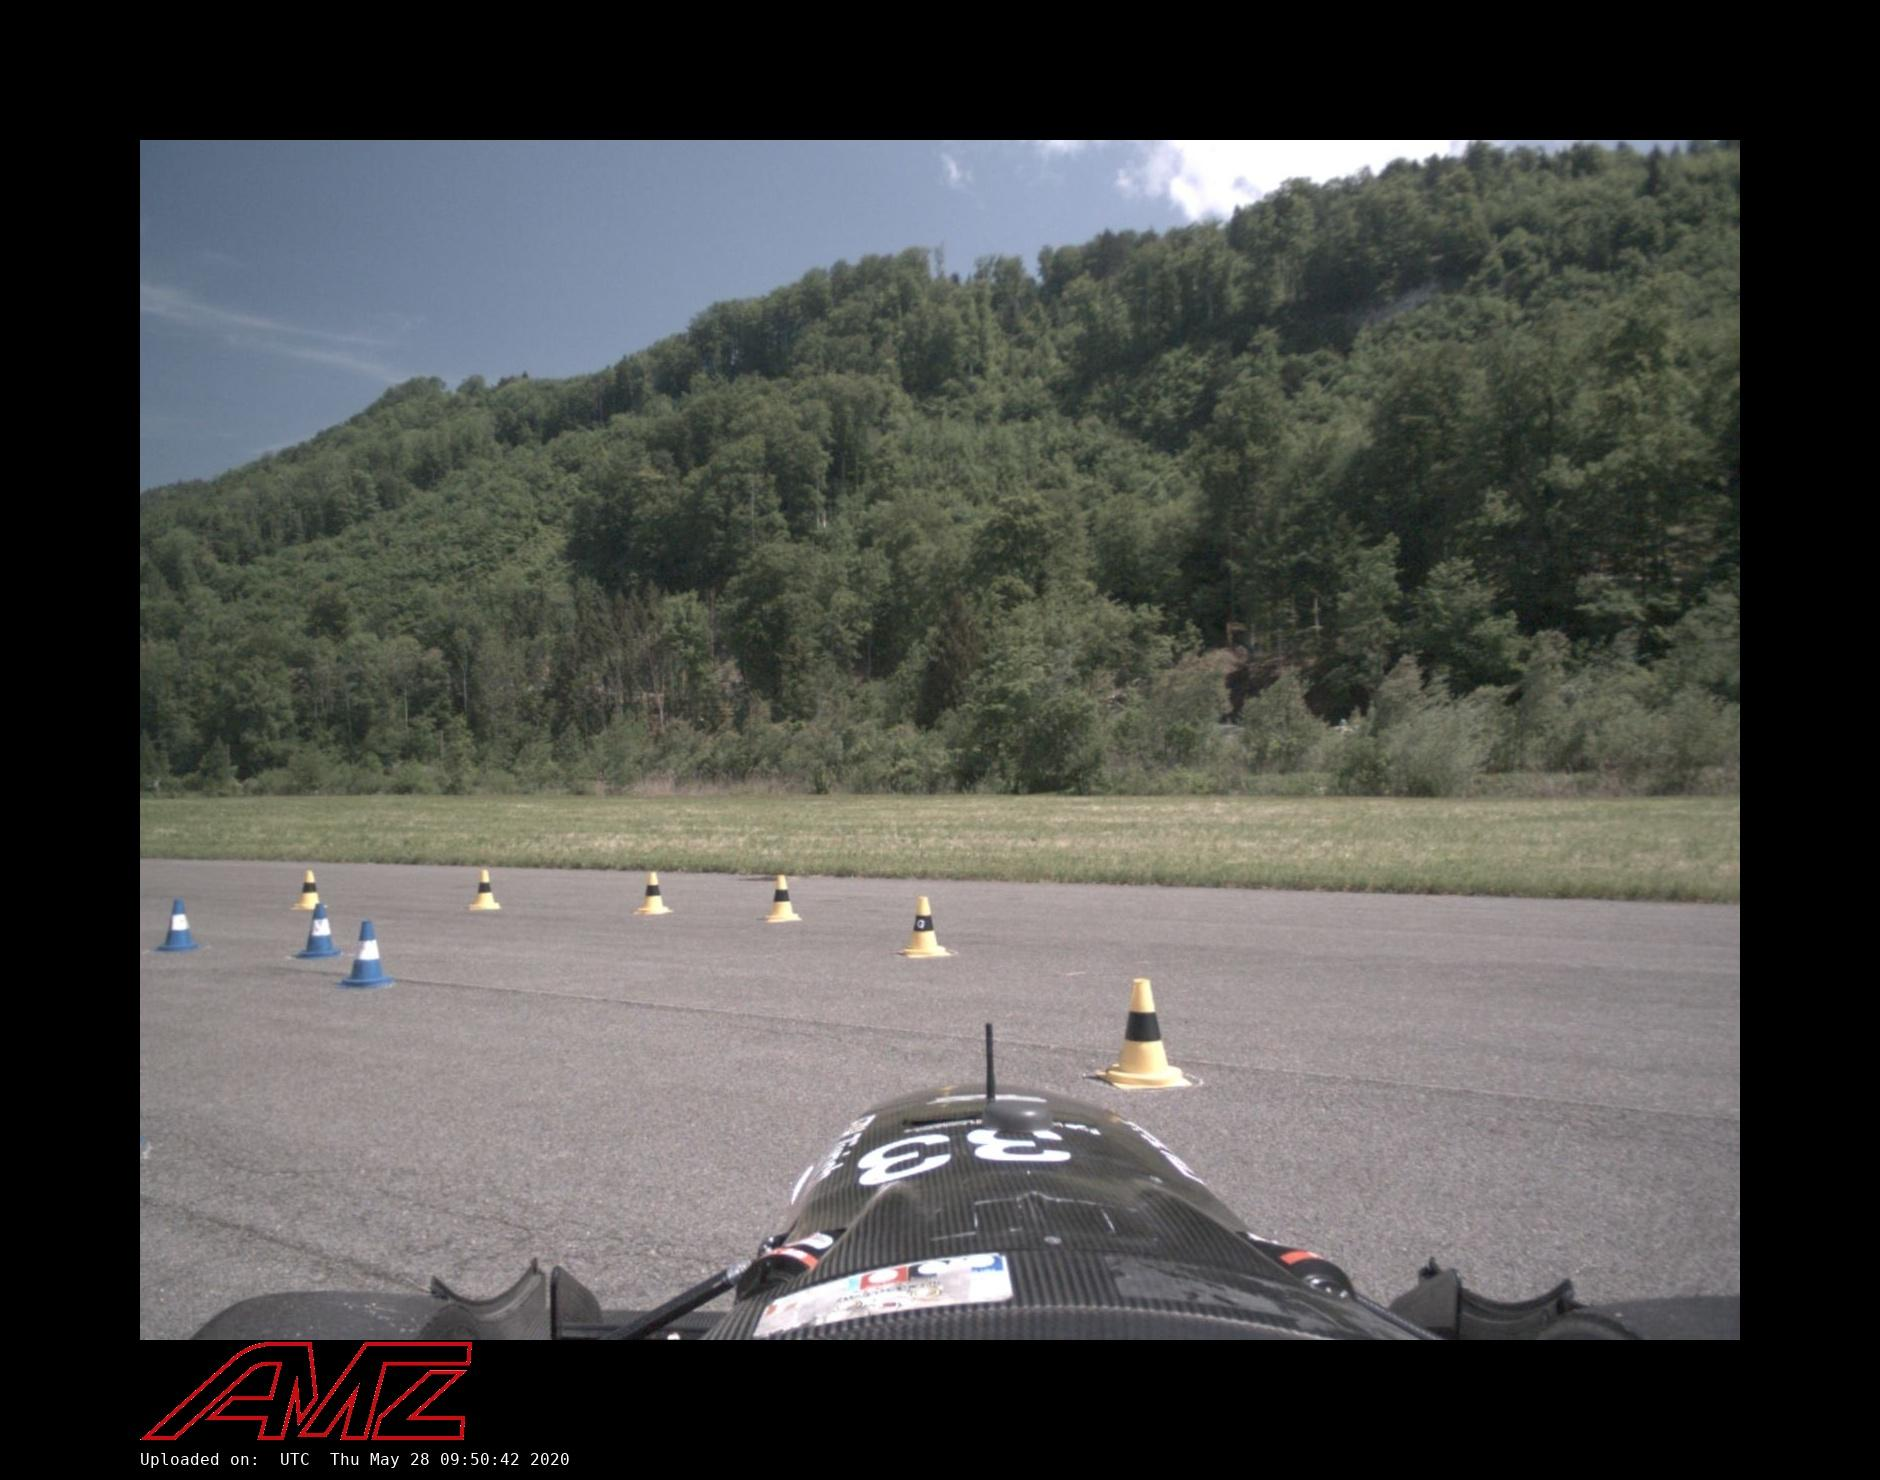blue_cone: (339, 922, 394, 989), (291, 903, 340, 960), (154, 899, 201, 952)
yellow_cone: (1096, 980, 1192, 1091), (896, 896, 951, 958), (761, 874, 800, 923), (635, 873, 671, 915), (290, 870, 328, 909), (468, 870, 502, 911)
